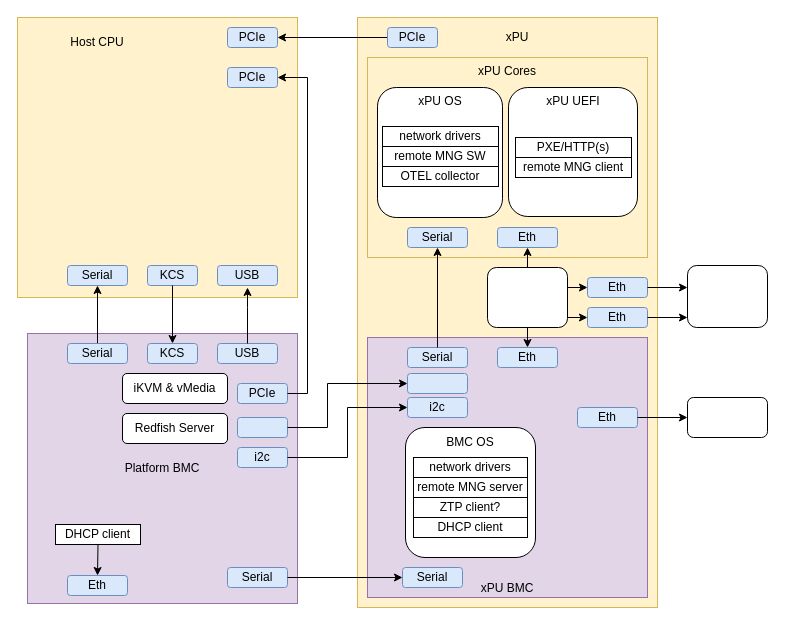
Some shapes in this 785 by 625 pixel diagram are drawn without their labels. The shapes that lost their labels are listed below. From the top down, each one's centre as x and y in pixels, then its label:
At point 527,297: "switch/ fabric".
At point 727,296: "In-band Mgmt".
At point 437,383: "NC-SI".
At point 262,427: "RBT".
At point 727,417: "1Gb OOB Mgmt".
